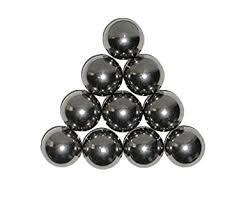steelball: (38, 123, 83, 168), (99, 14, 144, 58), (163, 124, 206, 169)
